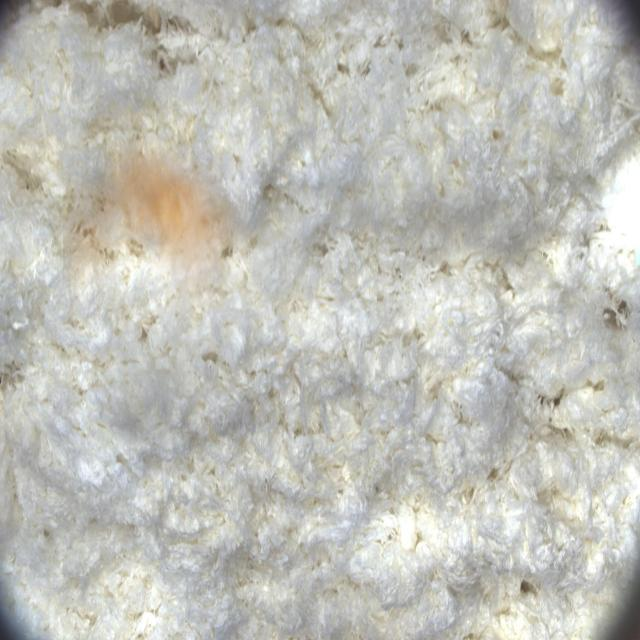dust: (63, 136, 251, 314)
